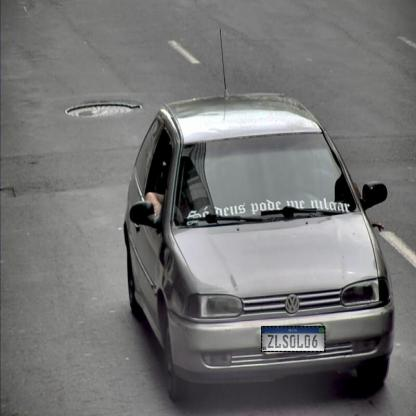PlacaM: (261, 326, 326, 352)
